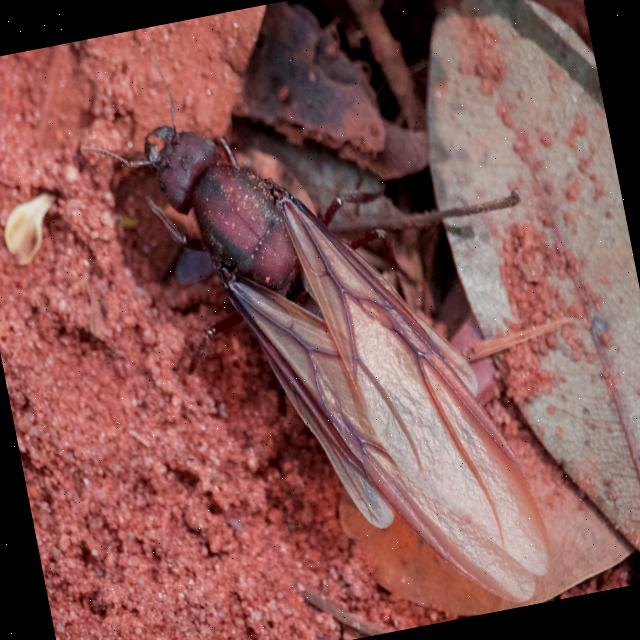Alive-Female-Alate: (62, 0, 561, 640)
